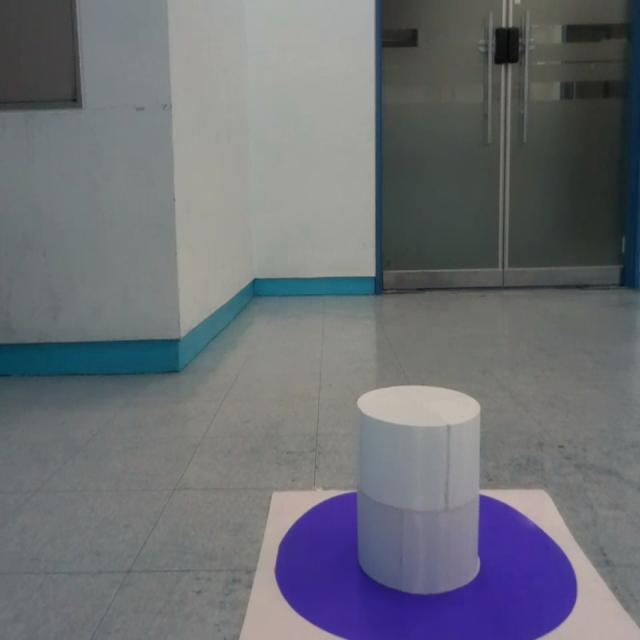cylinder: (355, 384, 482, 596)
